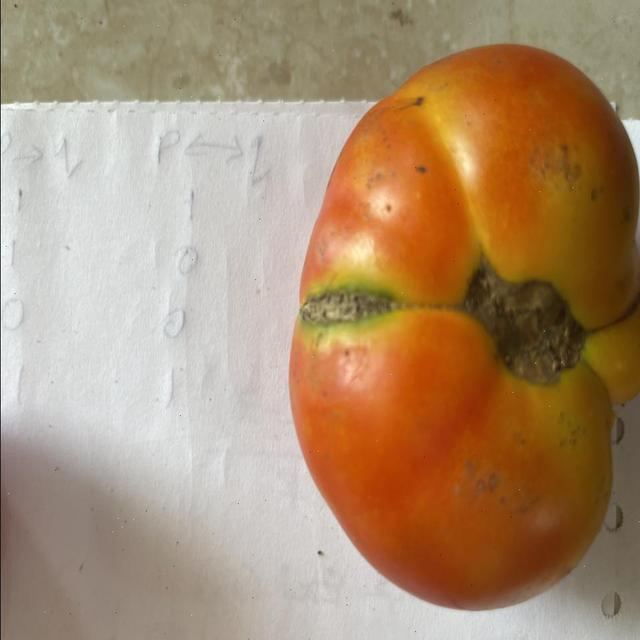Cracking Fruit: (204, 186, 261, 223)
